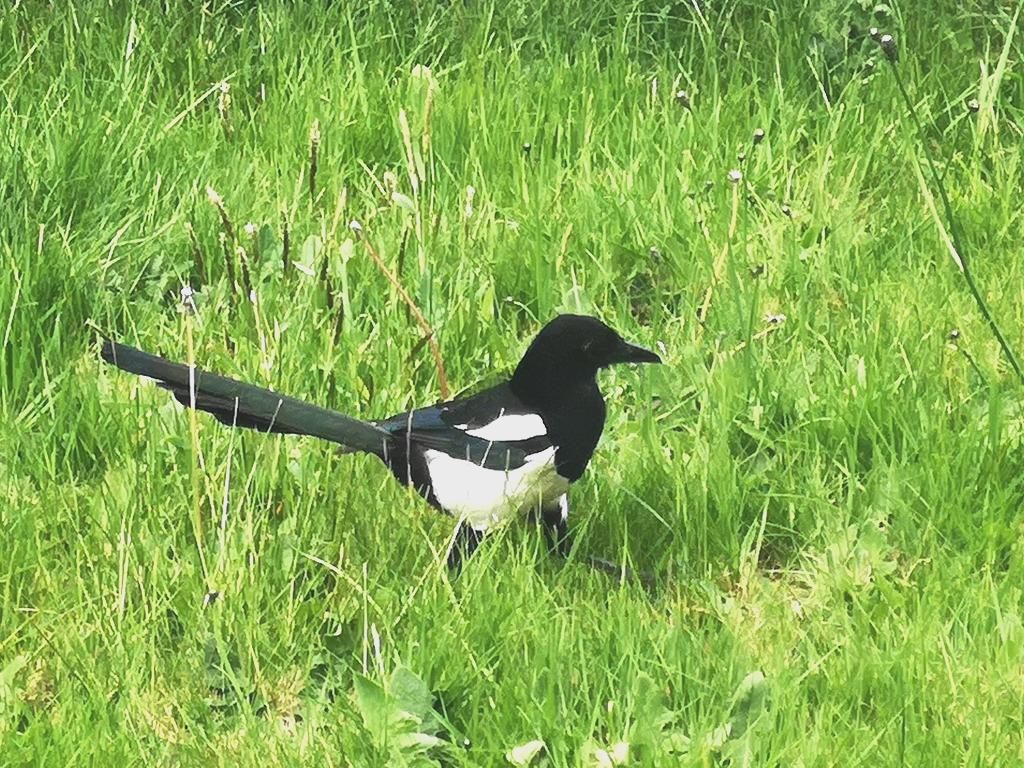PicaPica: (100, 313, 662, 583)
